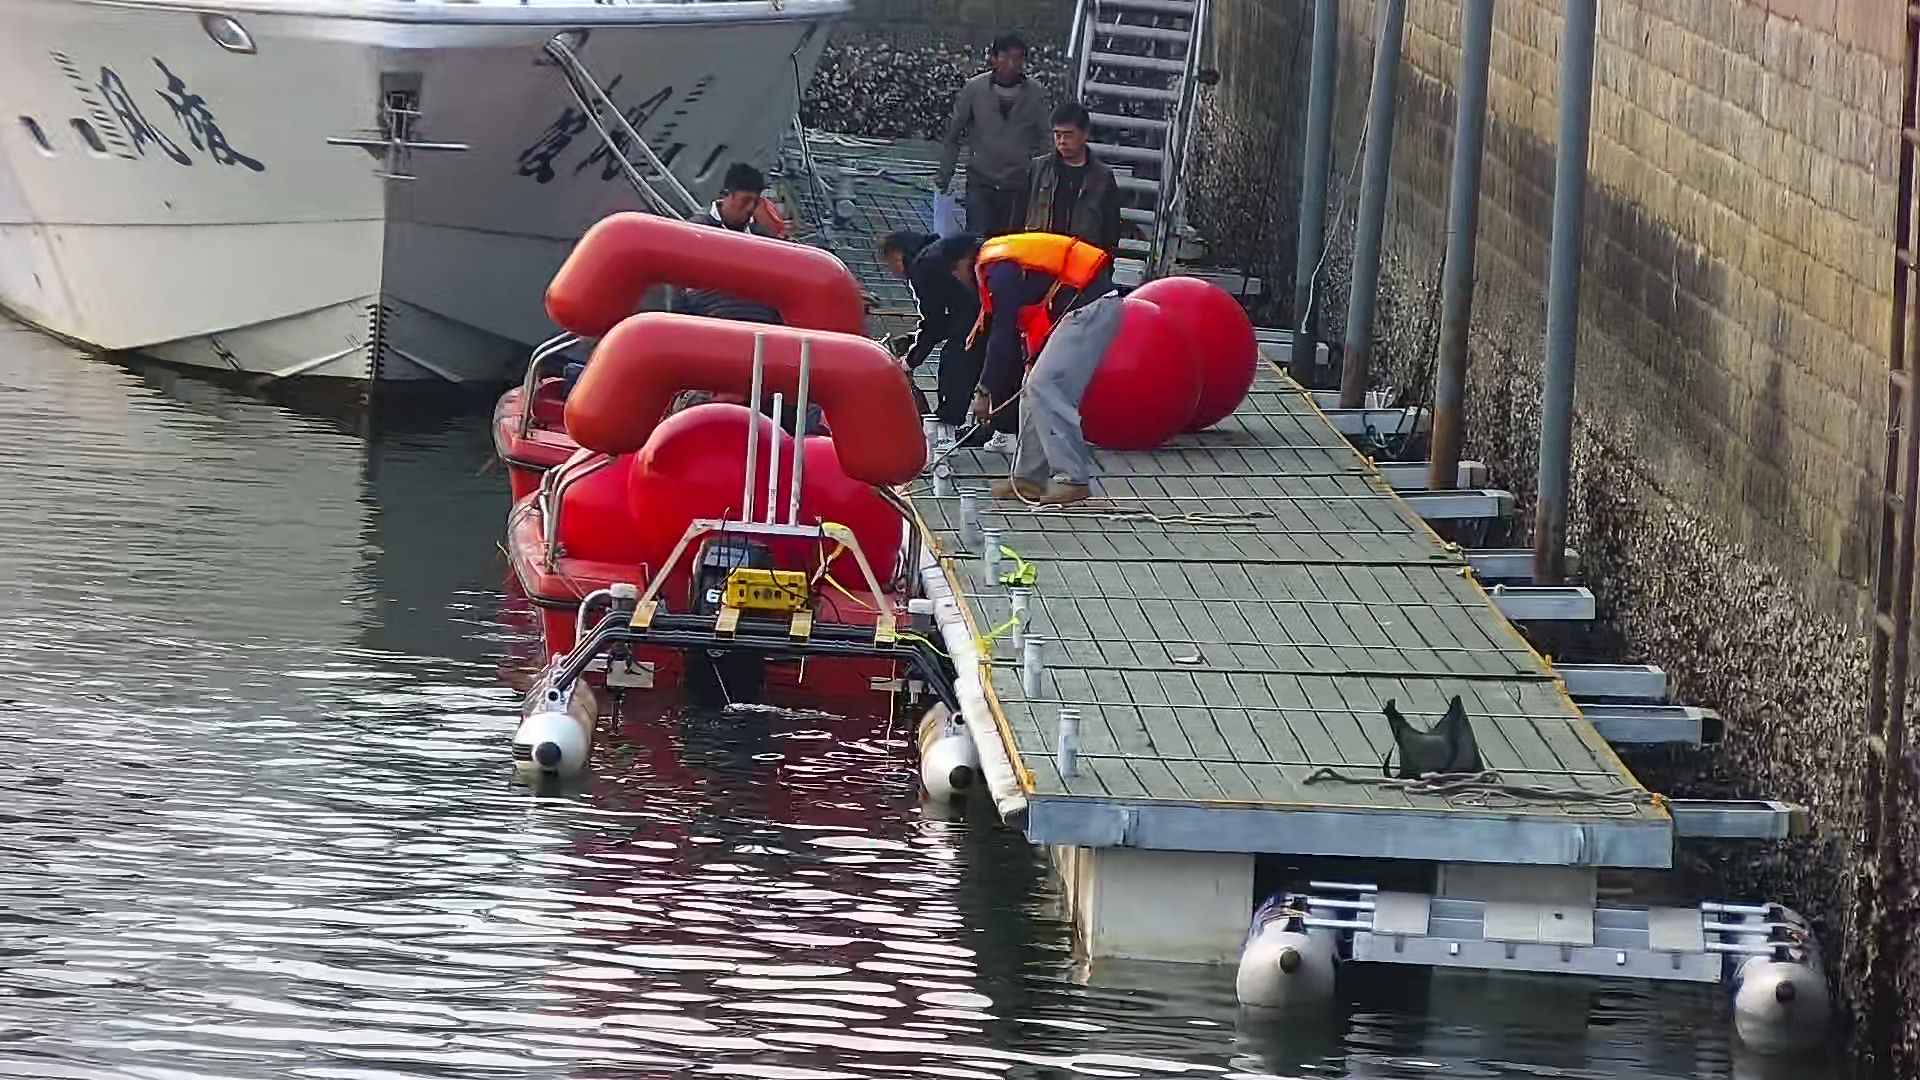boat: (504, 515, 983, 802), (1220, 864, 1831, 1050)
harbor: (777, 115, 1810, 908)
person: (940, 232, 1107, 510), (947, 30, 1055, 272), (882, 217, 999, 421), (1037, 104, 1107, 363)
